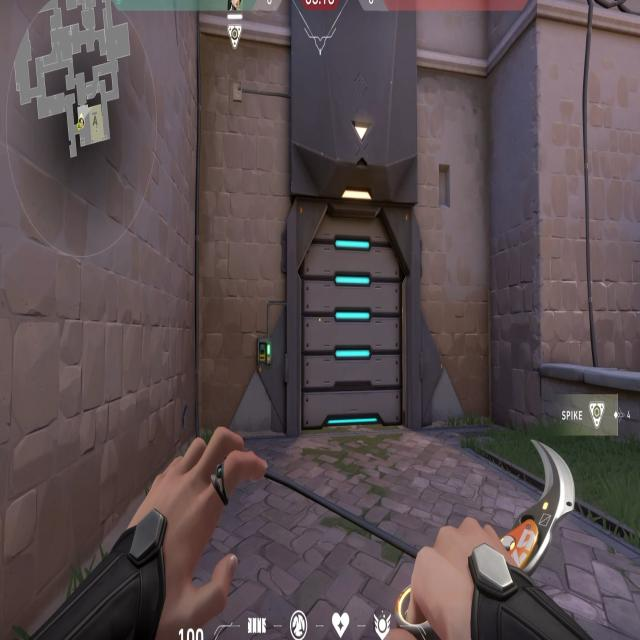A_Door: (294, 199, 416, 427)
